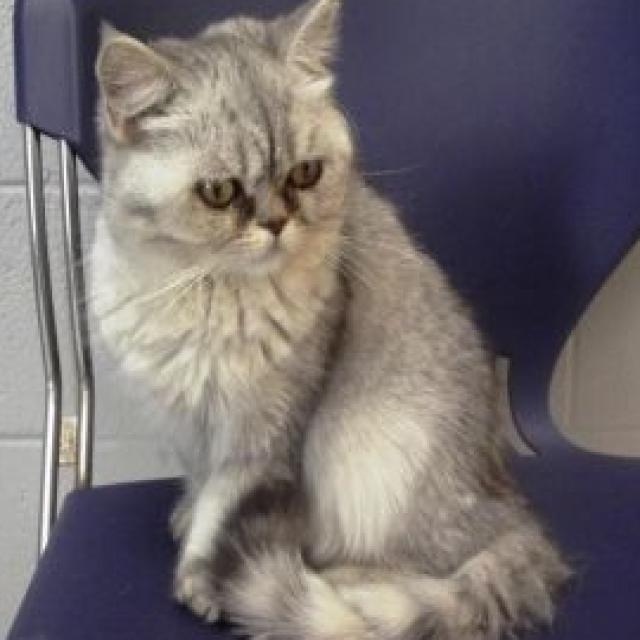Persian: (76, 0, 569, 640)
